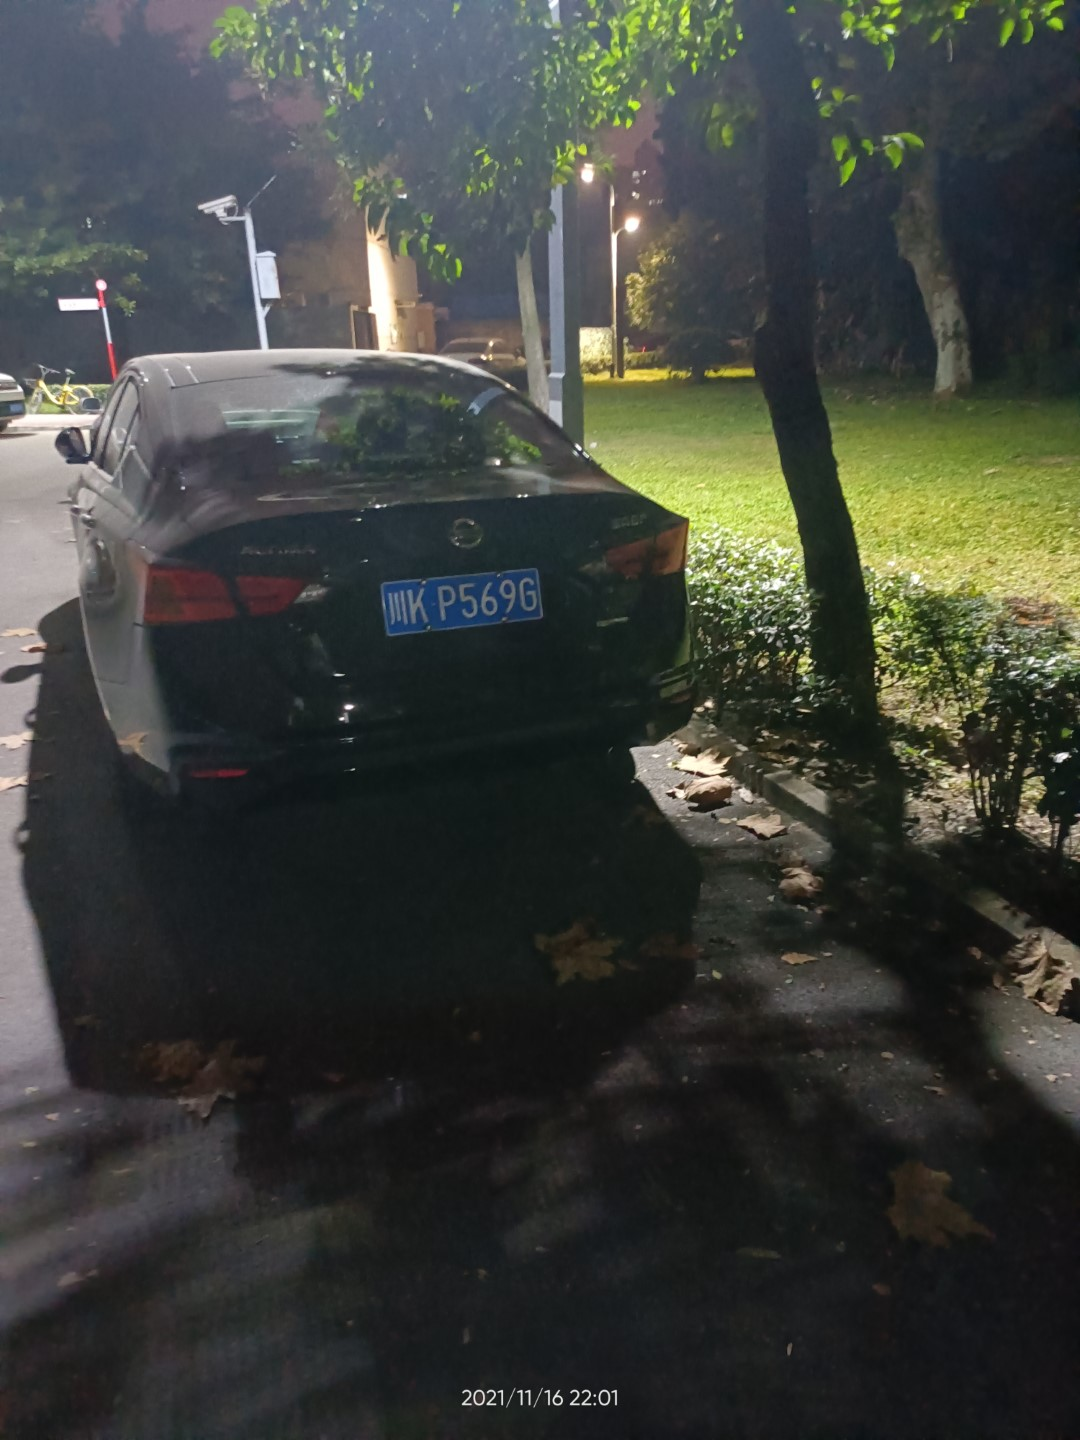plate: (381, 567, 542, 637)
